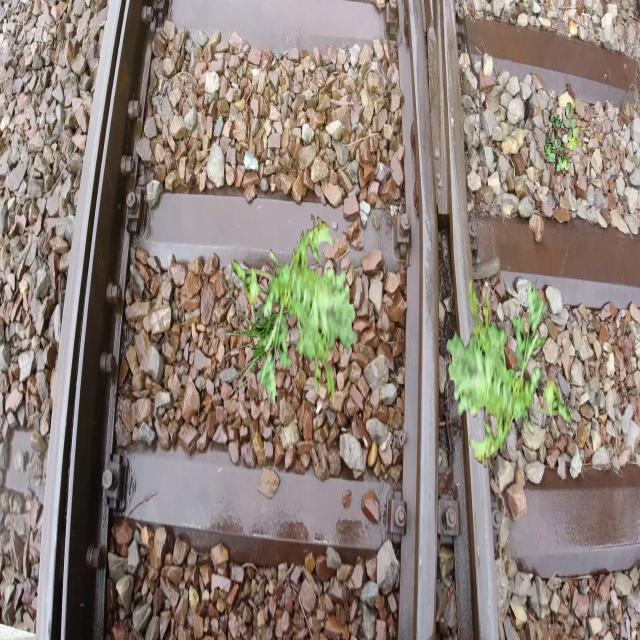Plant: (446, 275, 571, 471), (233, 214, 358, 410), (217, 243, 336, 407), (544, 102, 582, 176)
